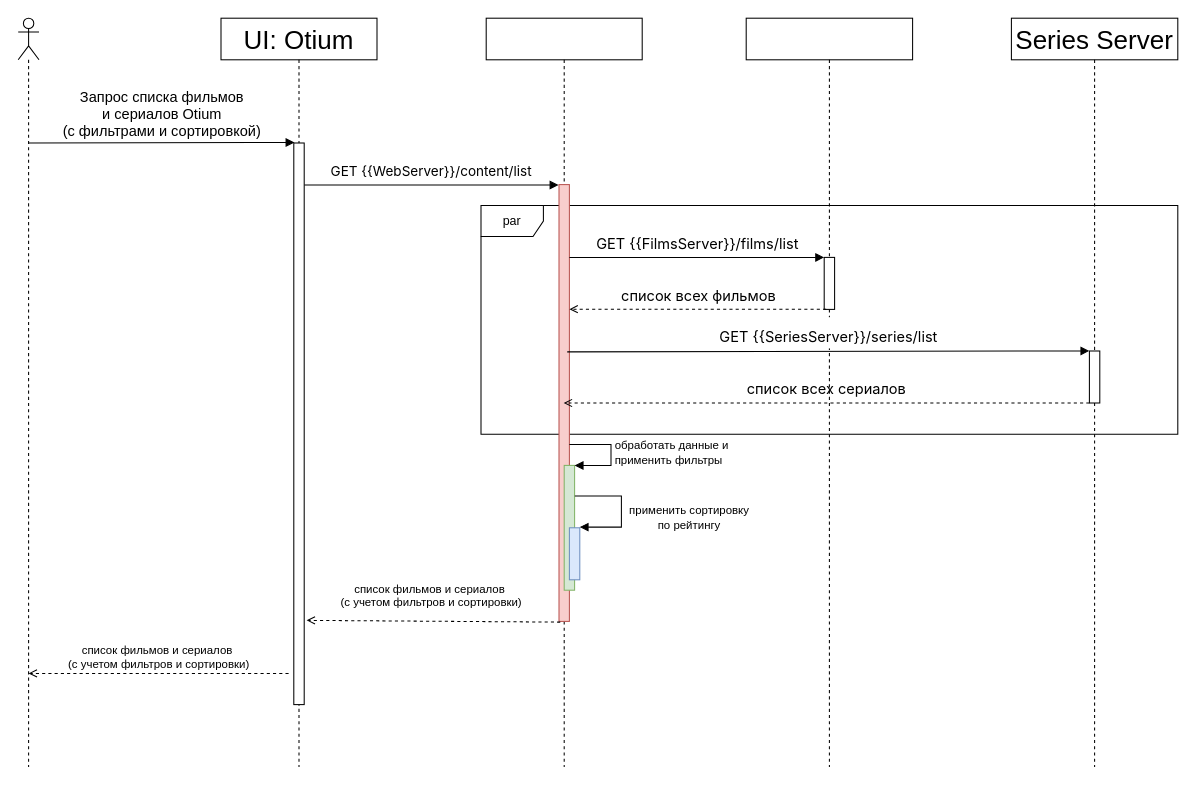
This 1196x785 diagram has some shape labels left out. The shapes that lost their labels are listed below. From the top down, each one's box as (x1, y1, x2, y2) in pixels, then its label:
(485, 17, 642, 767): Web Server
(745, 17, 913, 767): Films Server
